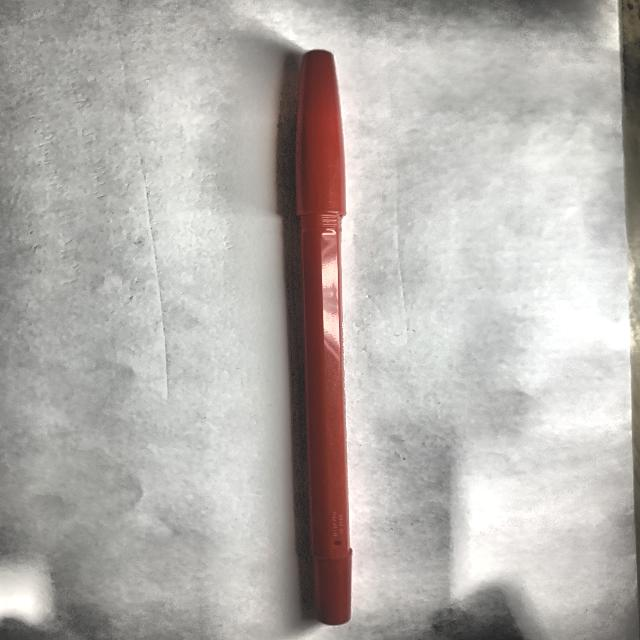Pulpen: (267, 47, 383, 634)
